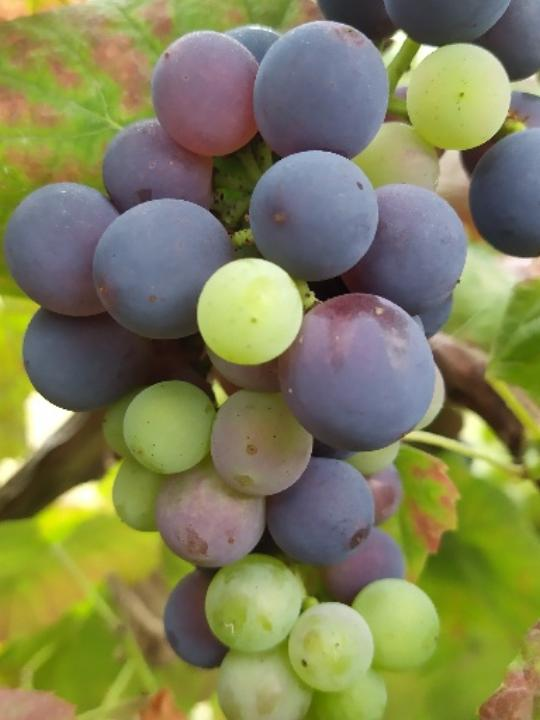grape: (0, 18, 474, 720)
